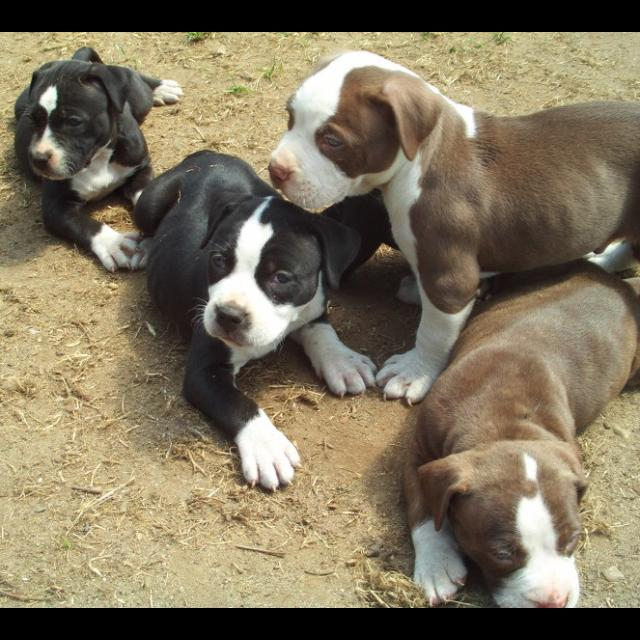am_pit_bull_terrier: (268, 49, 640, 407), (131, 149, 380, 493), (403, 260, 639, 609), (14, 47, 183, 273)
